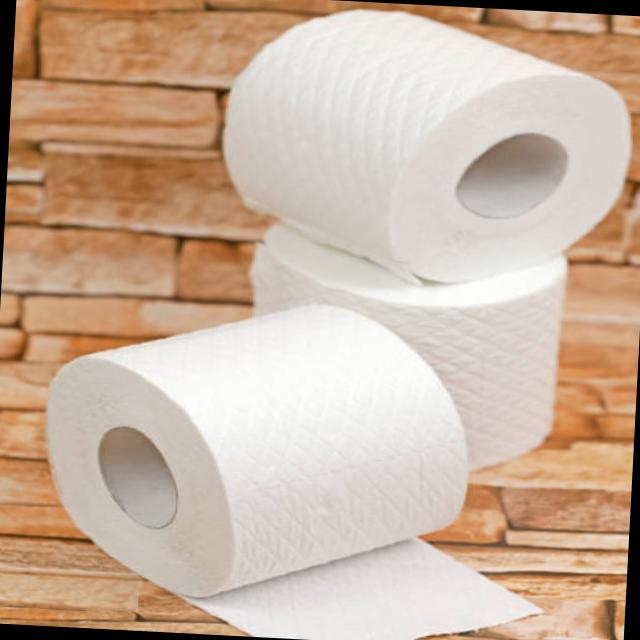electronic: (35, 288, 478, 613), (212, 0, 639, 296), (237, 220, 569, 478), (165, 522, 546, 640)
